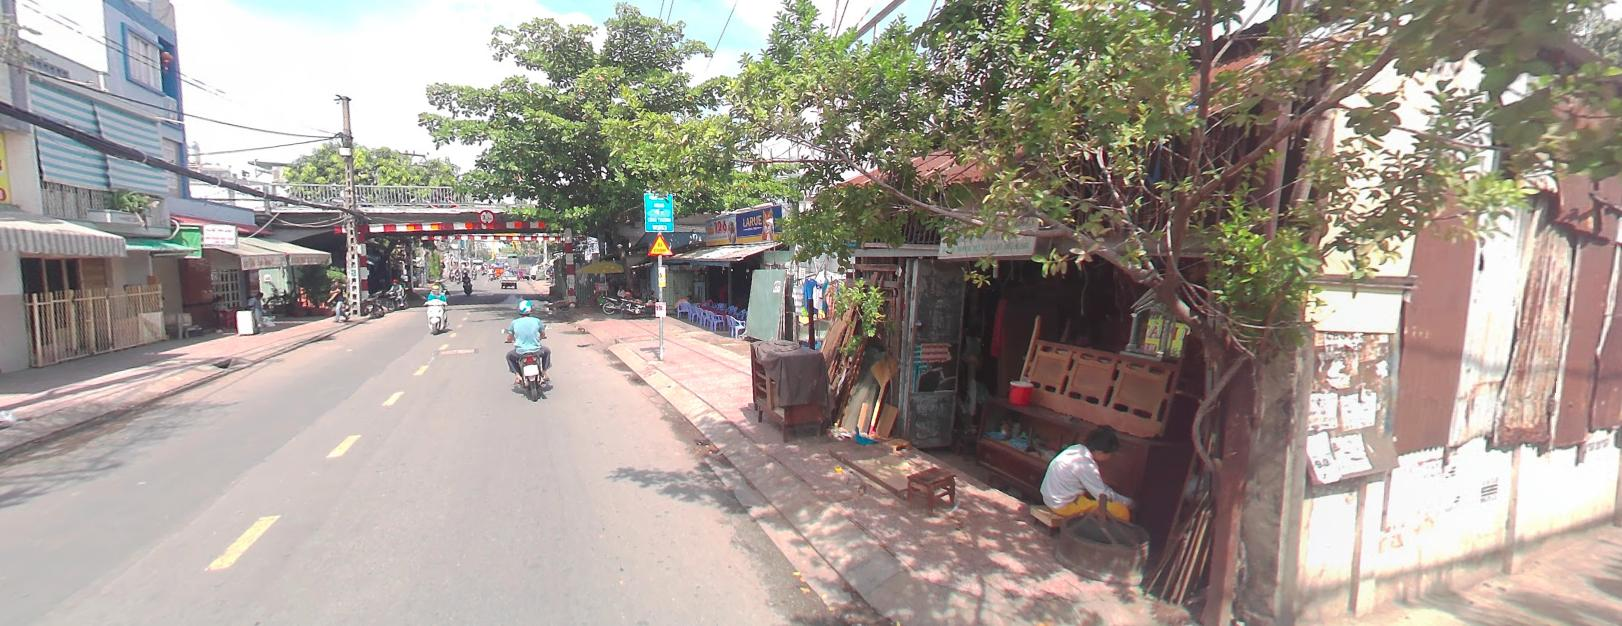Cam con lai: (478, 207, 495, 223), (478, 209, 494, 223)
Nguy hiem: (645, 231, 674, 254), (647, 232, 673, 254)
